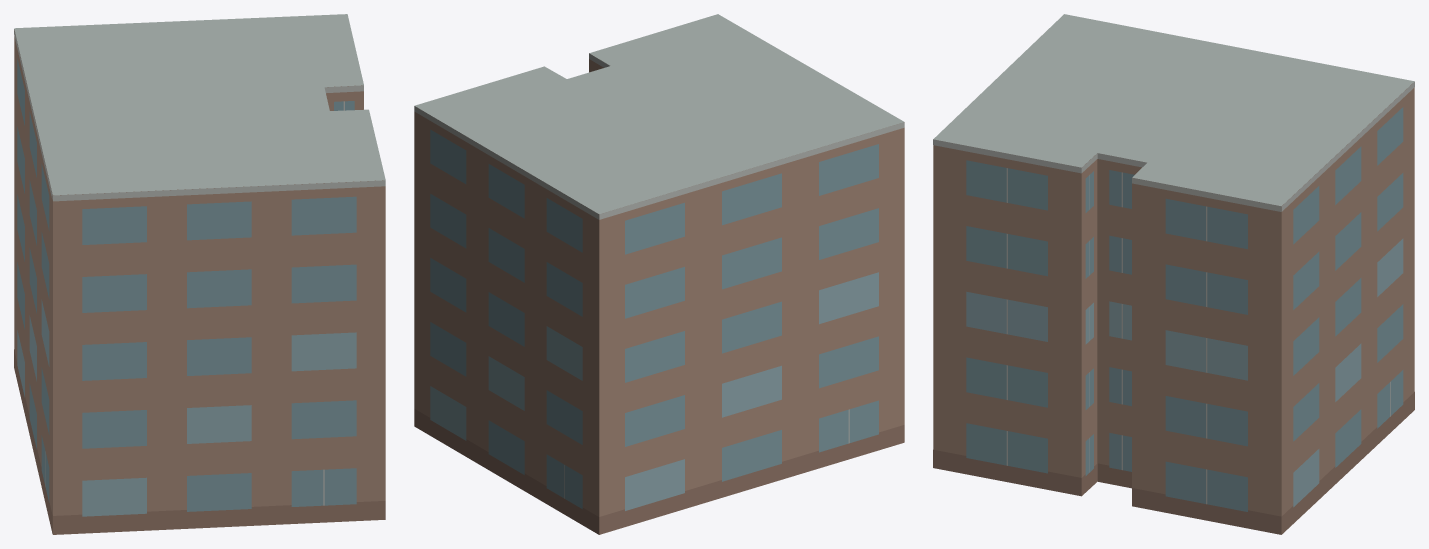
Rendered from survey-upis-33000635.glb.
3 views of the same model, side by side, from view 1: azimuth 30°, elevation 25°; view 2: azimuth 150°, elevation 25°; view 3: azimuth 270°, elevation 25° (orthographic). The views are drawn at different scales.
Parts seen in each view (by area): view 1: survey-upis-33000635.tmp; view 2: survey-upis-33000635.tmp; view 3: survey-upis-33000635.tmp.
Part boxes in pixels (x1,y1,x2,y2): survey-upis-33000635.tmp: [14, 14, 385, 534]; survey-upis-33000635.tmp: [414, 14, 904, 534]; survey-upis-33000635.tmp: [933, 14, 1414, 534].
Bounding box in the file's own units: 17.32 × 13.8 × 18.34.
